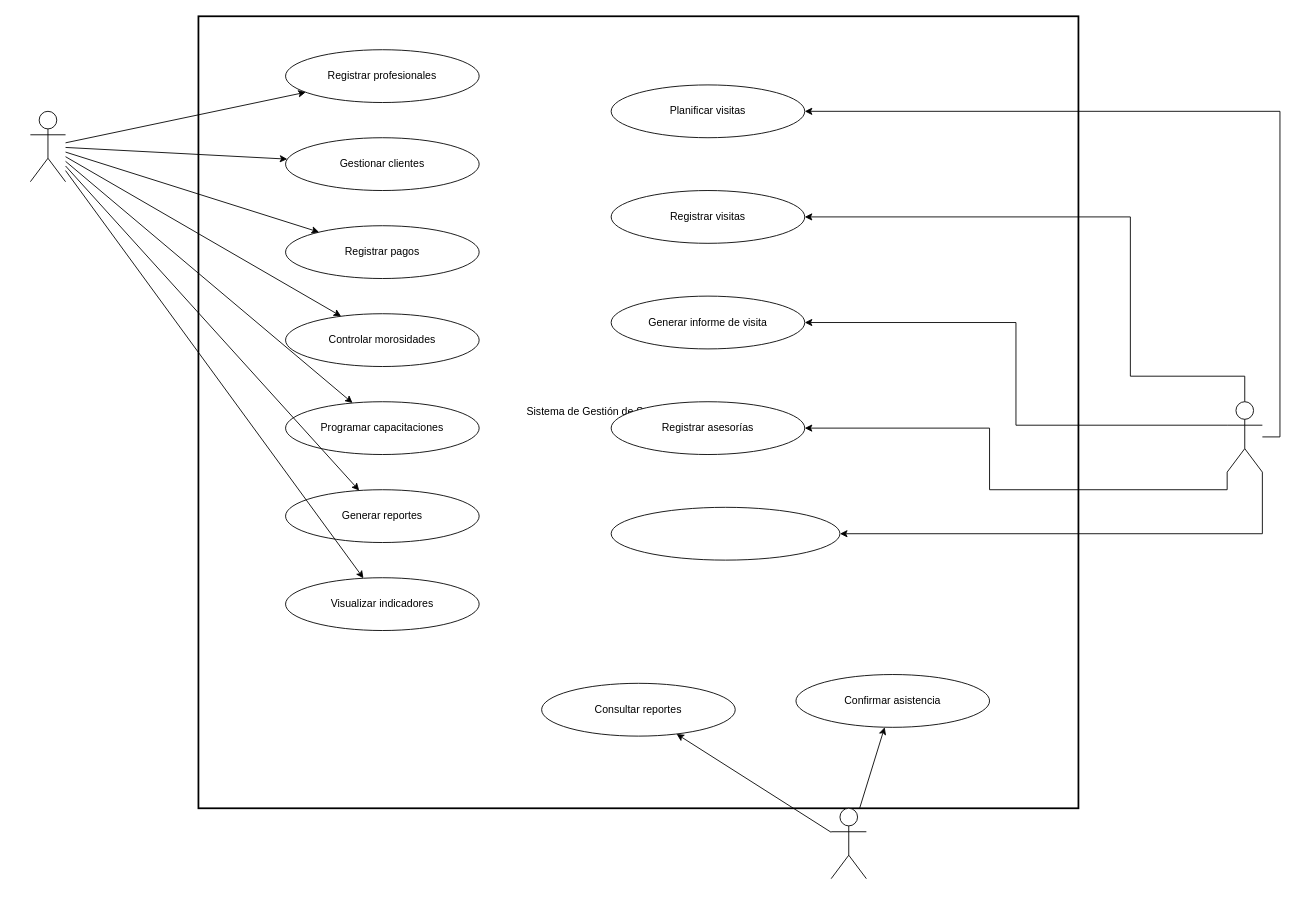
This 1302x912 diagram has some shape labels left out. Here are the shapes that lost their labels. From the top down, the box of each, then its label:
(29, 110, 66, 182): Administrador
(1226, 401, 1262, 472): Profesional
(610, 506, 840, 560): Registrar consultas telefónicas
(830, 807, 866, 879): Cliente
